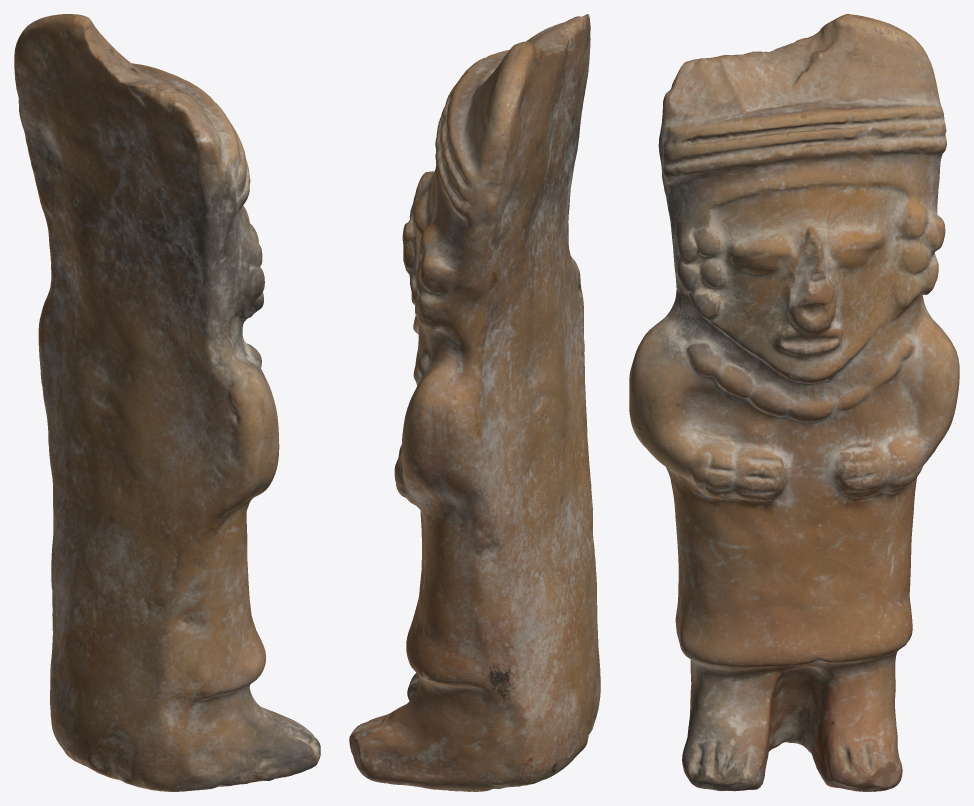
File: anthropomorphic_figure-bahia_culture.glb
The picture shows the model from 3 angles, left to right: view 1: azimuth 30°, elevation 25°; view 2: azimuth 150°, elevation 25°; view 3: azimuth 270°, elevation 25°; orthographic projection. The views are drawn at different scales.
Visible parts, largest first — view 1: Object_2, Object_3; view 2: Object_2, Object_3; view 3: Object_2, Object_3.
Part boxes in pixels (x1,y1,x2,y2): Object_2: (15,14,300,790); Object_3: (14,14,320,791); Object_2: (358,14,600,788); Object_3: (349,52,599,791); Object_2: (629,14,959,787); Object_3: (629,17,959,791).
Size of the model in its own units: 0.043 by 0.1526 by 0.0643.
Materials: 1 (1 with a texture image).
